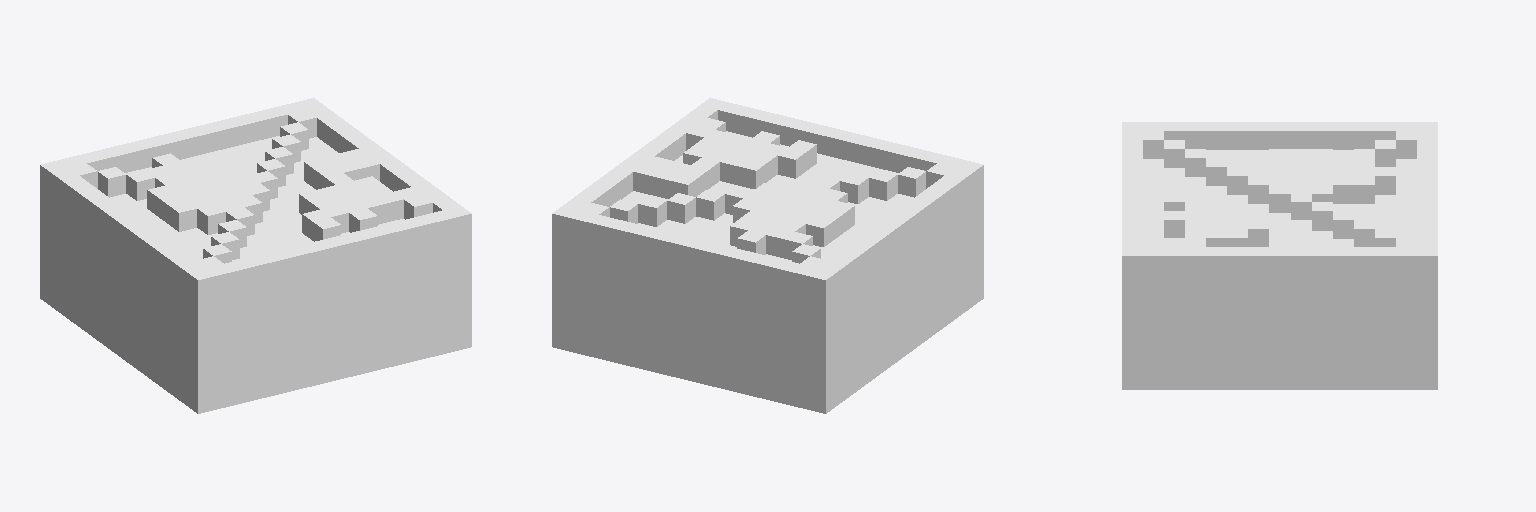
Rendered from GreenBase.obj.
3 views of the same model, side by side, from view 1: azimuth 30°, elevation 25°; view 2: azimuth 150°, elevation 25°; view 3: azimuth 270°, elevation 25° (orthographic).
Parts seen in each view (by area): view 1: ObjObject.003; view 2: ObjObject.003; view 3: ObjObject.003.
Part boxes in pixels (x1,y1,x2,y2): ObjObject.003: (40, 98, 471, 413); ObjObject.003: (552, 98, 983, 413); ObjObject.003: (1122, 122, 1437, 389).
Bounding box in the file's own units: 1.5 × 0.7 × 1.5.